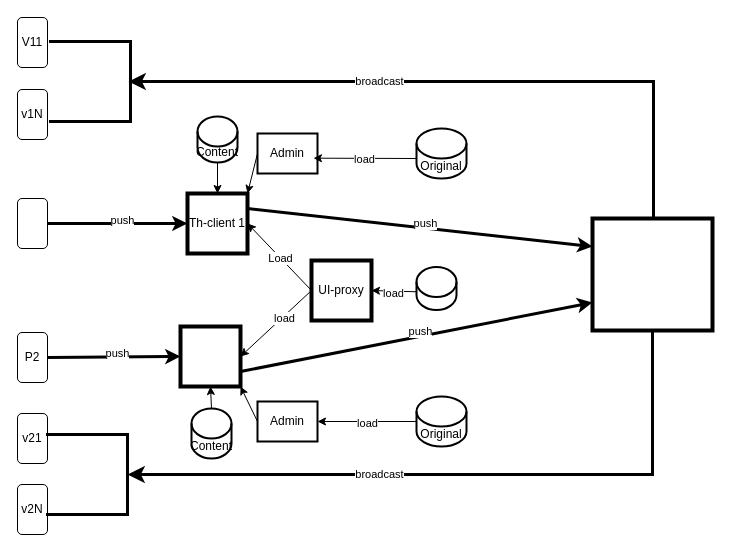
This 732x552 diagram has some shape labels left out. The shapes that lost their labels are listed below. From the top down, each one's centre as x and y in pixels, then its label:
the point at 32,223: P1
the point at 436,288: Clients
the point at 652,274: Broadcast service
the point at 210,356: Th-client 2
